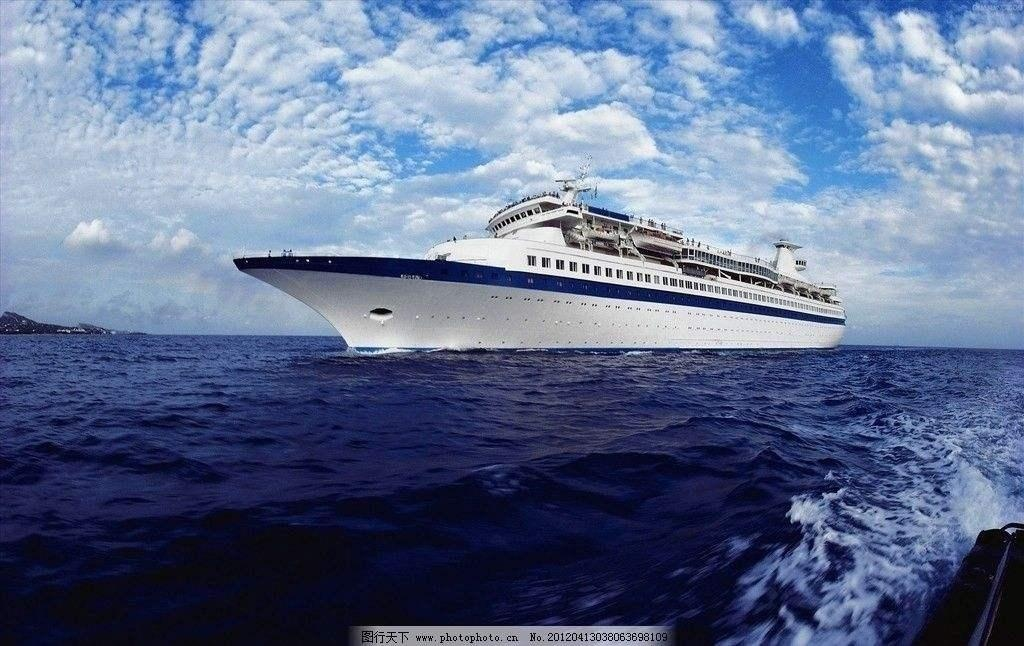youlun: (235, 183, 848, 359)
